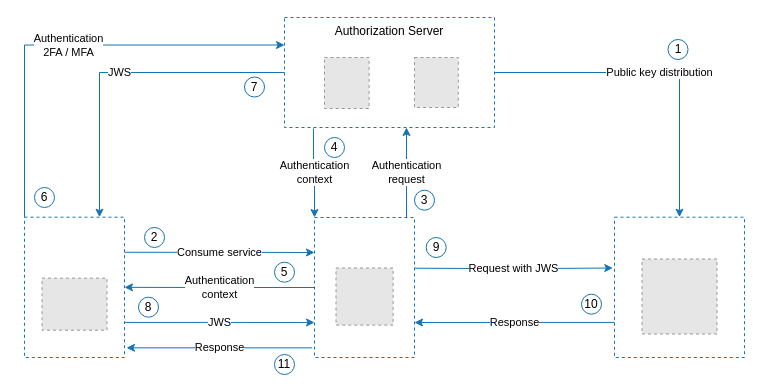
This 762x392 diagram has some shape labels left out. Grey dashed boxes stand in for pictures. Each missing label, with the box of its shape:
Resource Server: (614, 216, 744, 358)
Signing Backend: (314, 216, 414, 358)
Users and Applications: (24, 216, 124, 358)
